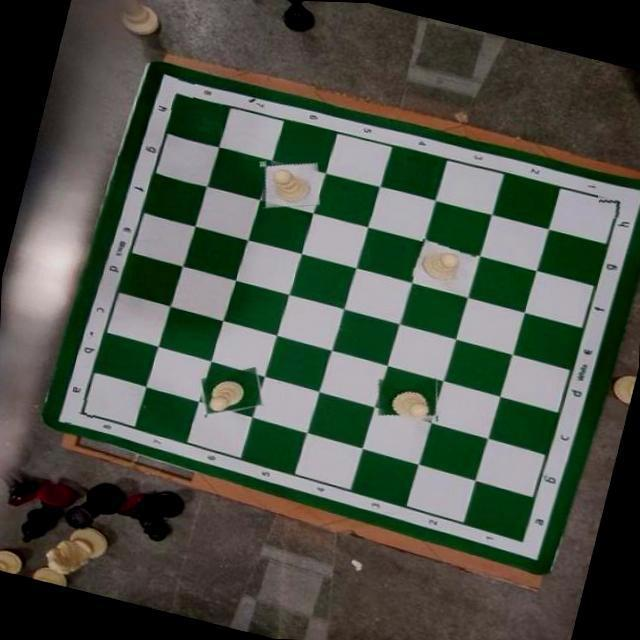chess-table-corners: (598, 188, 638, 218), (160, 76, 194, 110), (501, 528, 534, 554), (64, 398, 94, 424)
